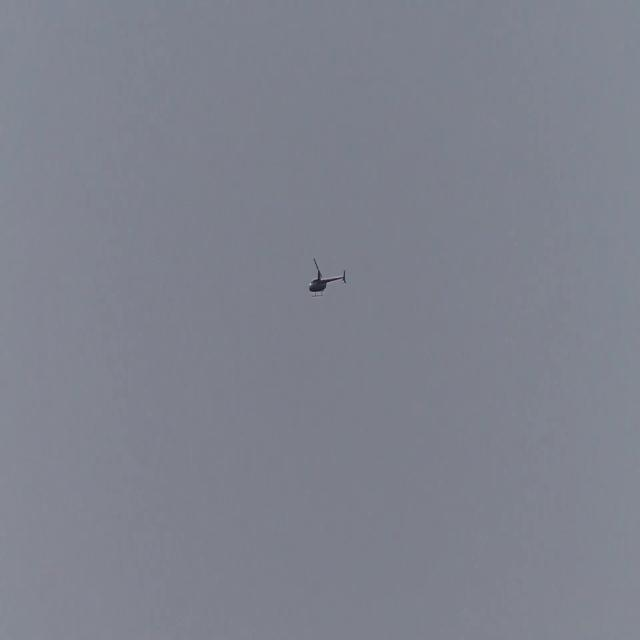CIV_HELO: (309, 268, 346, 298)
